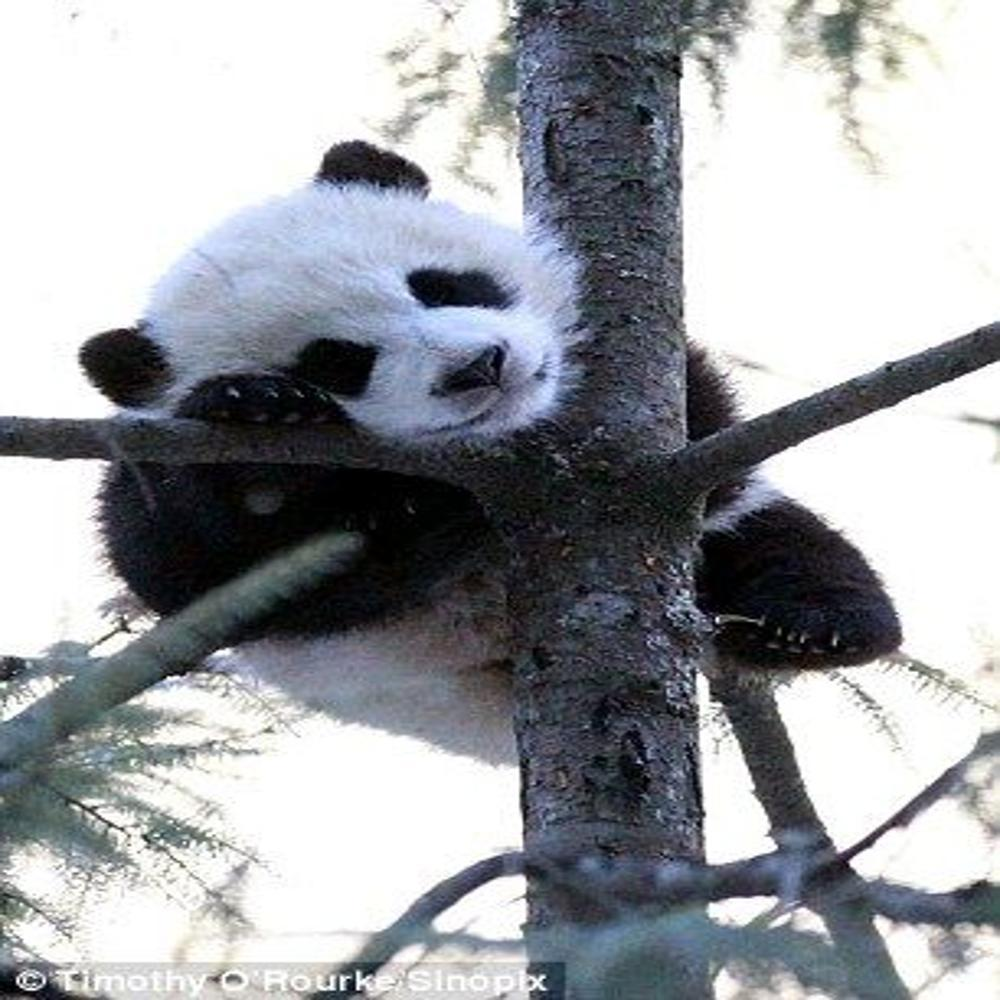panda: (68, 136, 907, 774)
